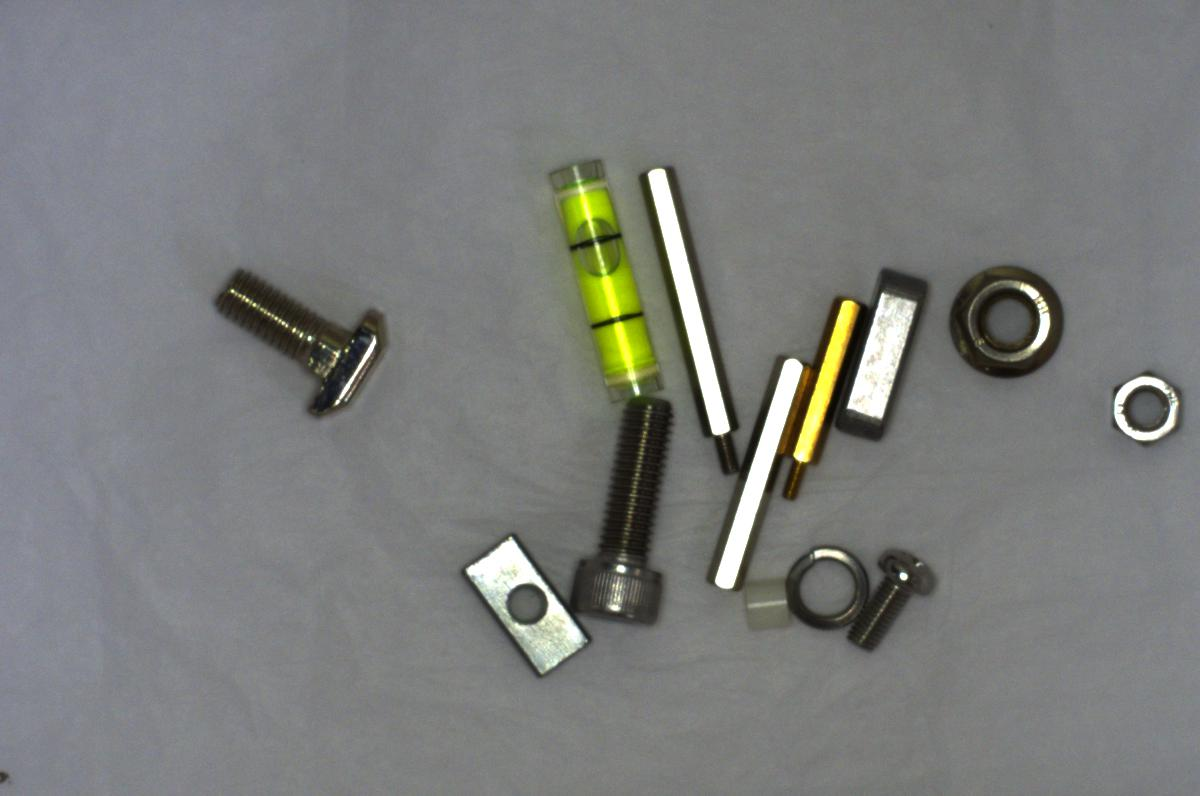Double hexagonal column: (702, 346, 805, 599)
Flange nut: (943, 256, 1069, 386)
Hexagon nut: (1098, 369, 1189, 455)
Hexagon pillar: (769, 294, 866, 509)
Hexagon screw: (552, 392, 688, 635)
Hexagonal steel column: (633, 153, 744, 478)
Horizontal bubble: (546, 145, 671, 408)
Keybar: (824, 253, 933, 444)
Plastic cushion pillar: (730, 574, 800, 640)
Rectangular nut: (465, 527, 597, 687)
Round head screw: (837, 545, 947, 651)
Spring washer: (783, 537, 871, 633)
T-shaped screw: (189, 262, 393, 413)
